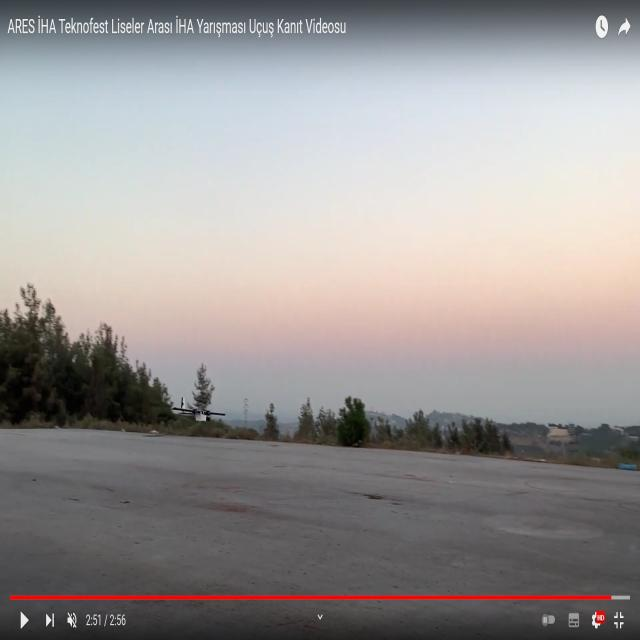iha: (170, 393, 226, 435)
